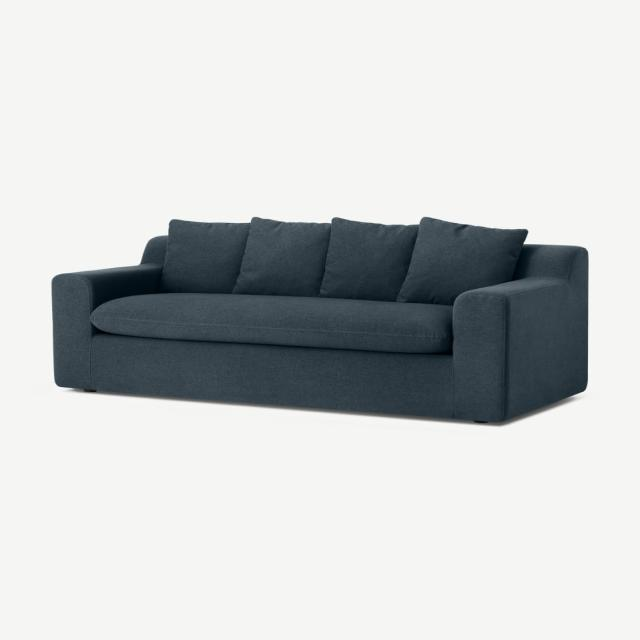Soffa: (42, 213, 594, 430)
